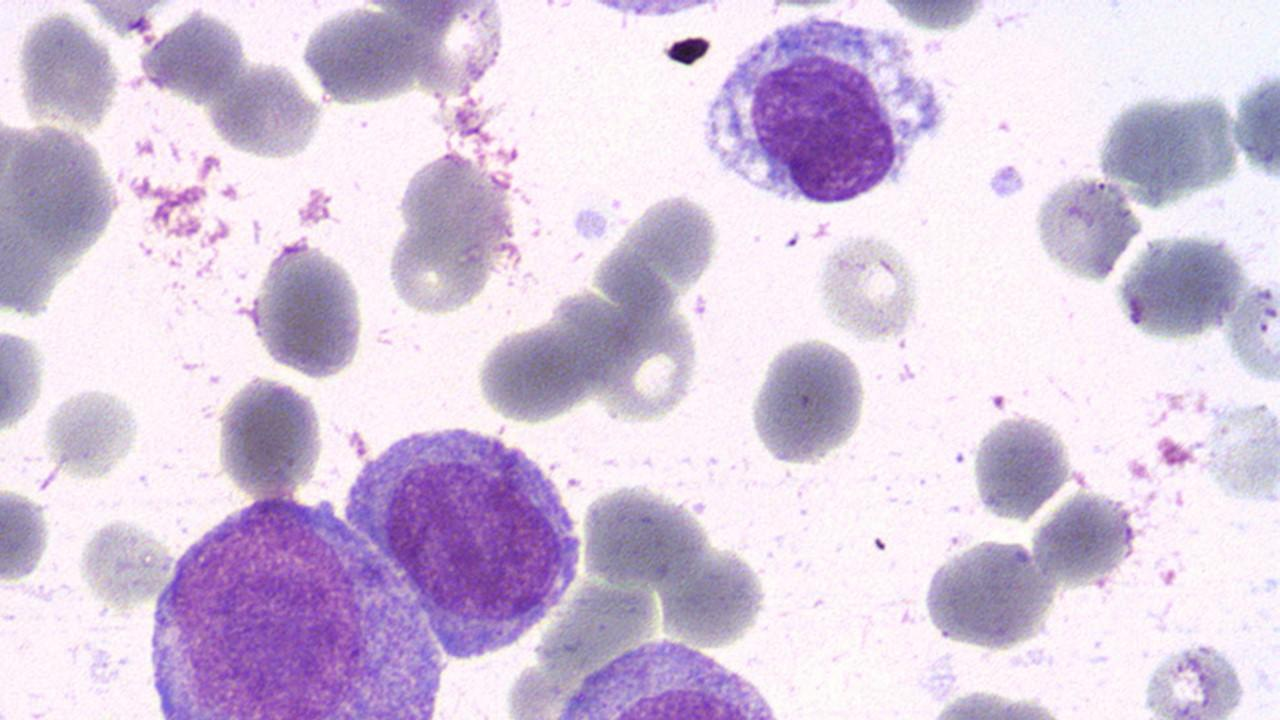Platelets: (984, 161, 1027, 202), (920, 36, 946, 56)
RBC: (1, 104, 122, 326), (596, 180, 726, 322), (749, 324, 871, 468), (918, 534, 1059, 652), (252, 239, 365, 384), (1114, 228, 1242, 347), (213, 371, 327, 503), (586, 300, 704, 424), (1029, 169, 1145, 285), (298, 5, 423, 107), (474, 320, 590, 424), (968, 412, 1072, 524), (816, 230, 922, 339), (383, 223, 491, 318), (1136, 639, 1260, 716), (42, 385, 144, 478), (79, 514, 175, 612), (1232, 58, 1280, 184), (1227, 276, 1279, 388), (1, 479, 52, 588), (0, 324, 48, 434)
WBC: (135, 484, 462, 714), (340, 412, 588, 656), (696, 2, 951, 212), (522, 637, 794, 719)
